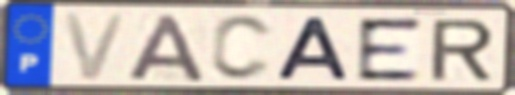A: (124, 12, 209, 83), (274, 15, 354, 82)
C: (207, 13, 277, 83)
E: (354, 15, 424, 83)
R: (427, 16, 497, 82)
V: (59, 11, 131, 83)
